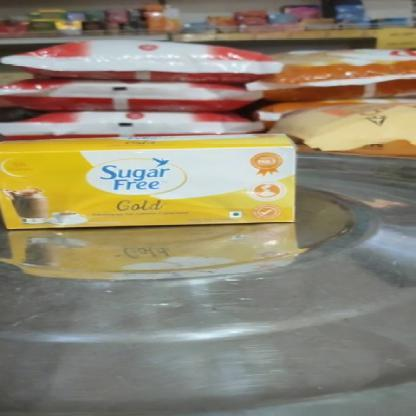SUGAR FREE GOLD SACHET 50: (2, 143, 297, 229)
